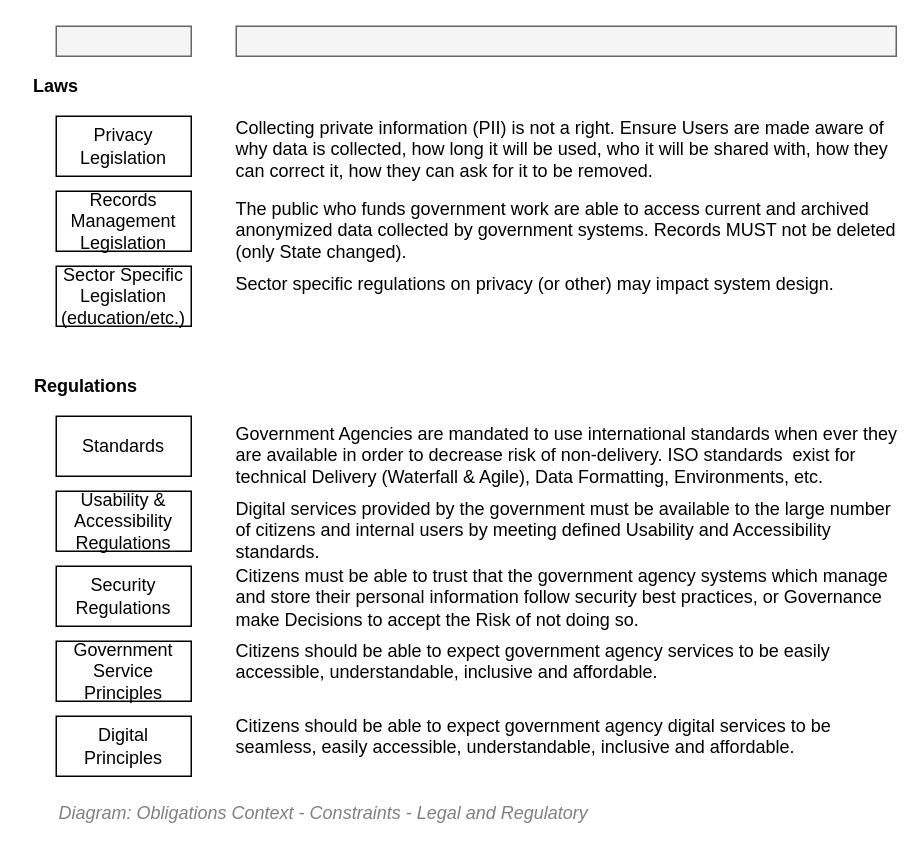
Some shapes in this 924 by 863 pixel diagram are drawn without their labels. Each missing label, with the centre of its shape:
"Key Outcomes" belongs at point (565, 40).
"Type" belongs at point (123, 40).
